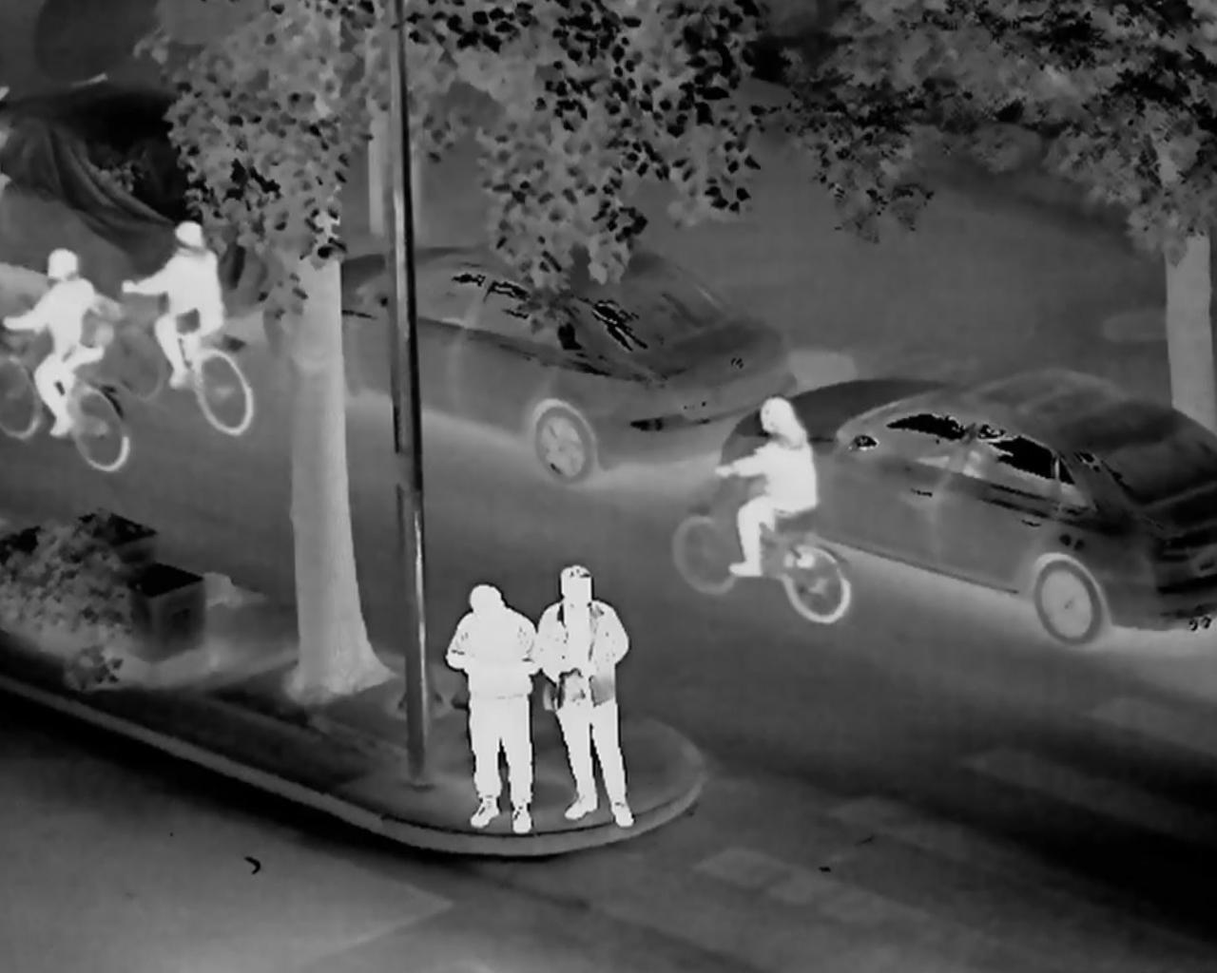person: (530, 548, 652, 851), (434, 560, 562, 839), (710, 381, 823, 582), (9, 240, 109, 447), (125, 211, 235, 395)
